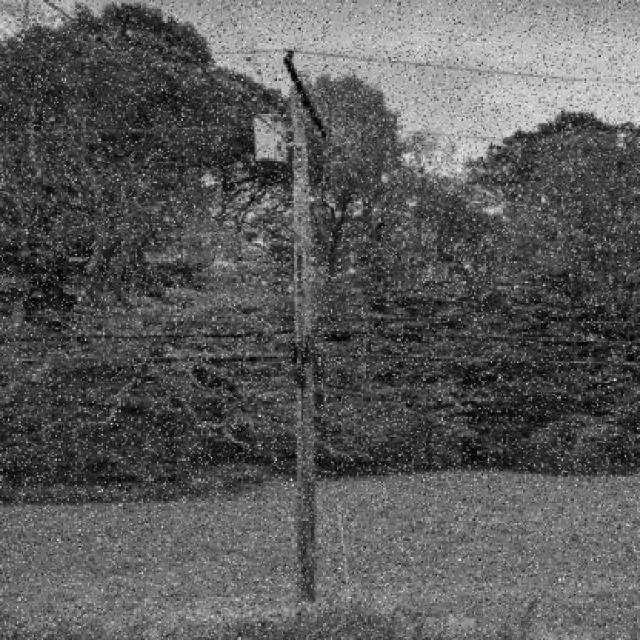pole: (221, 37, 367, 611)
